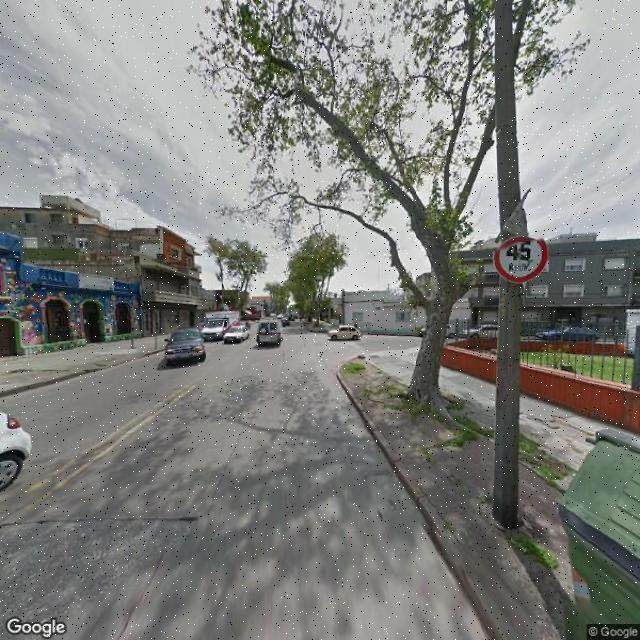garbage container: (549, 425, 640, 640)
